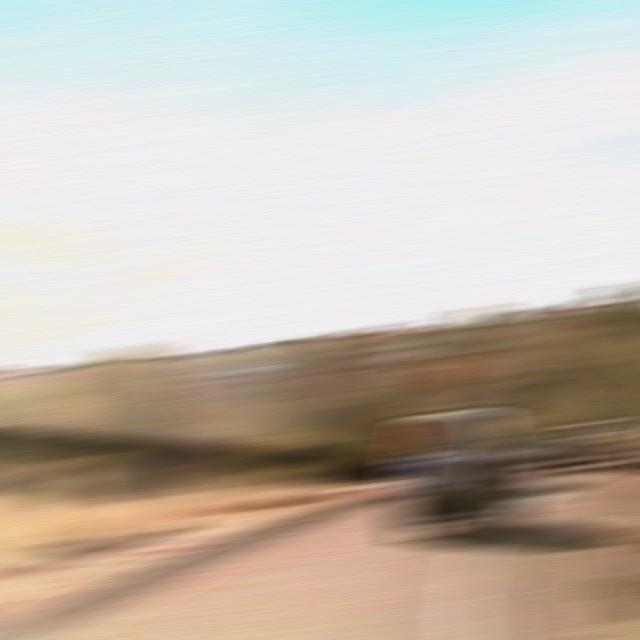yield: (308, 364, 353, 395)
